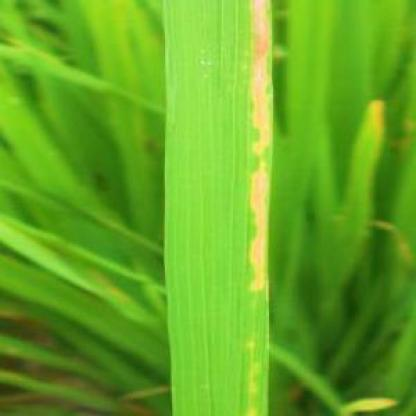Blight: (160, 1, 278, 416)
